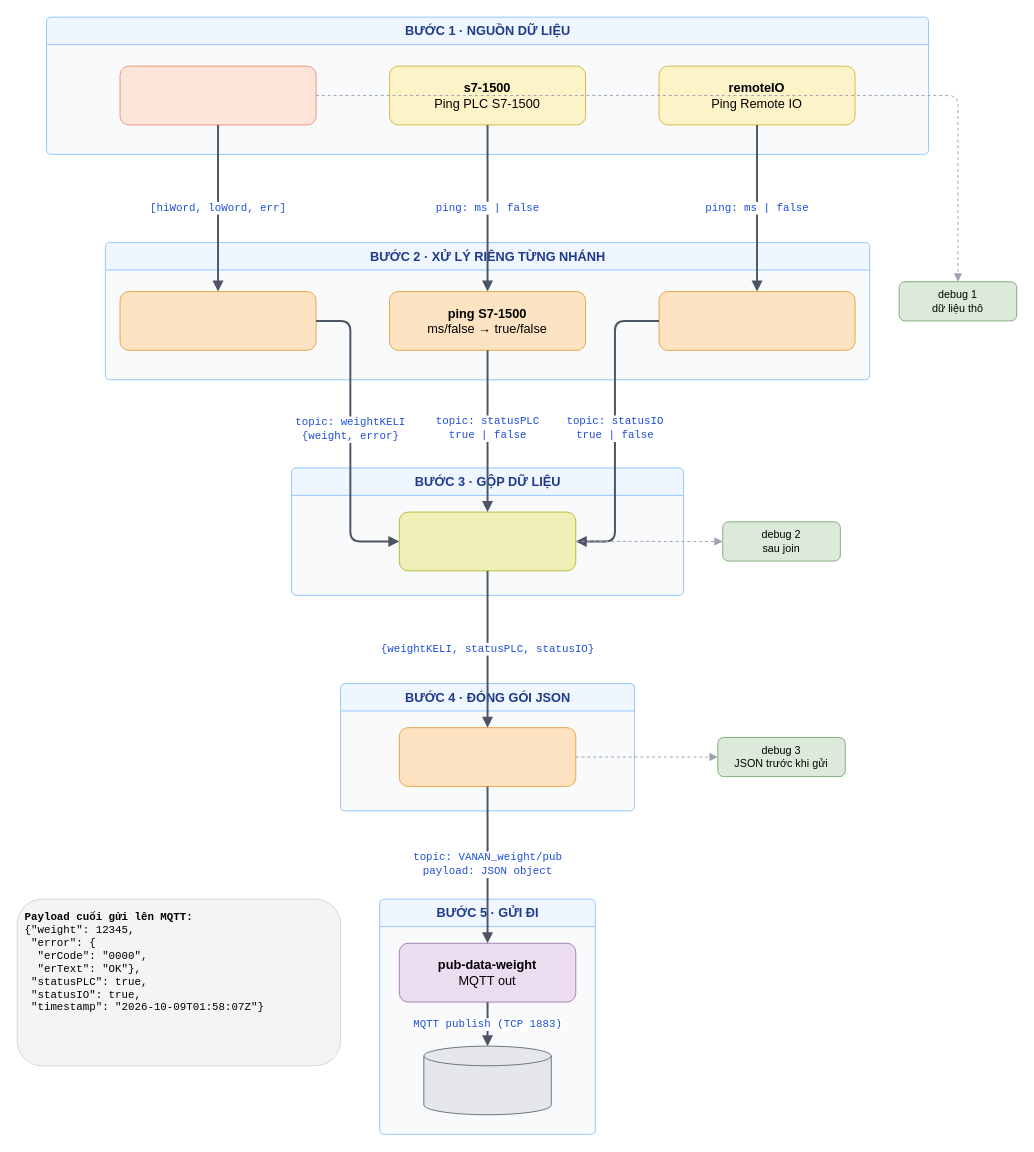
Some shapes in this 1034 by 1152 pixel diagram are drawn without their labels. The centre of each missing label's shape, as x and y in pixels:
Broker EMQX: the point at 487,1080
dataWeight hi<<16 | lo, tra mã lỗi: the point at 217,320
function 1 Tạo JSON + timestamp: the point at 487,756
join 3+ Chờ đủ 3 msg rồi gộp: the point at 487,541
ping remoteIO ms/false → true/false: the point at 756,320
readWeight Modbus đọc đầu cân KELI: the point at 217,95
